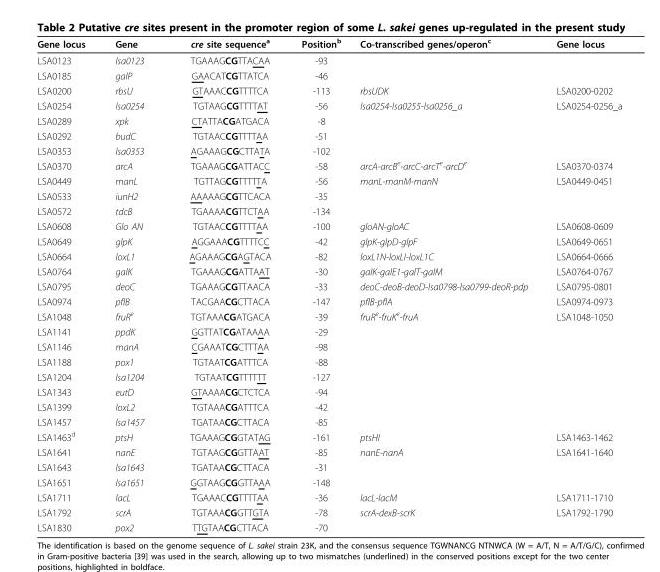table: (36, 36, 621, 532)
table column: (349, 36, 541, 532), (165, 36, 285, 532), (541, 36, 621, 532), (99, 36, 165, 532), (285, 36, 349, 532), (36, 36, 99, 532)
table column header: (36, 36, 621, 51)
table row: (36, 51, 621, 67), (36, 127, 621, 143), (36, 157, 621, 173), (36, 368, 621, 384), (36, 428, 621, 444), (36, 36, 621, 51), (36, 67, 621, 82), (36, 82, 621, 97), (36, 97, 621, 112), (36, 112, 621, 127), (36, 173, 621, 188), (36, 188, 621, 203), (36, 203, 621, 218), (36, 218, 621, 233), (36, 233, 621, 248), (36, 248, 621, 263), (36, 263, 621, 278), (36, 278, 621, 293), (36, 293, 621, 308), (36, 308, 621, 323), (36, 323, 621, 338), (36, 338, 621, 353), (36, 353, 621, 368), (36, 384, 621, 399), (36, 399, 621, 414), (36, 444, 621, 459), (36, 459, 621, 474), (36, 474, 621, 489), (36, 489, 621, 504), (36, 504, 621, 519), (36, 143, 621, 157), (36, 414, 621, 428), (36, 519, 621, 532)
